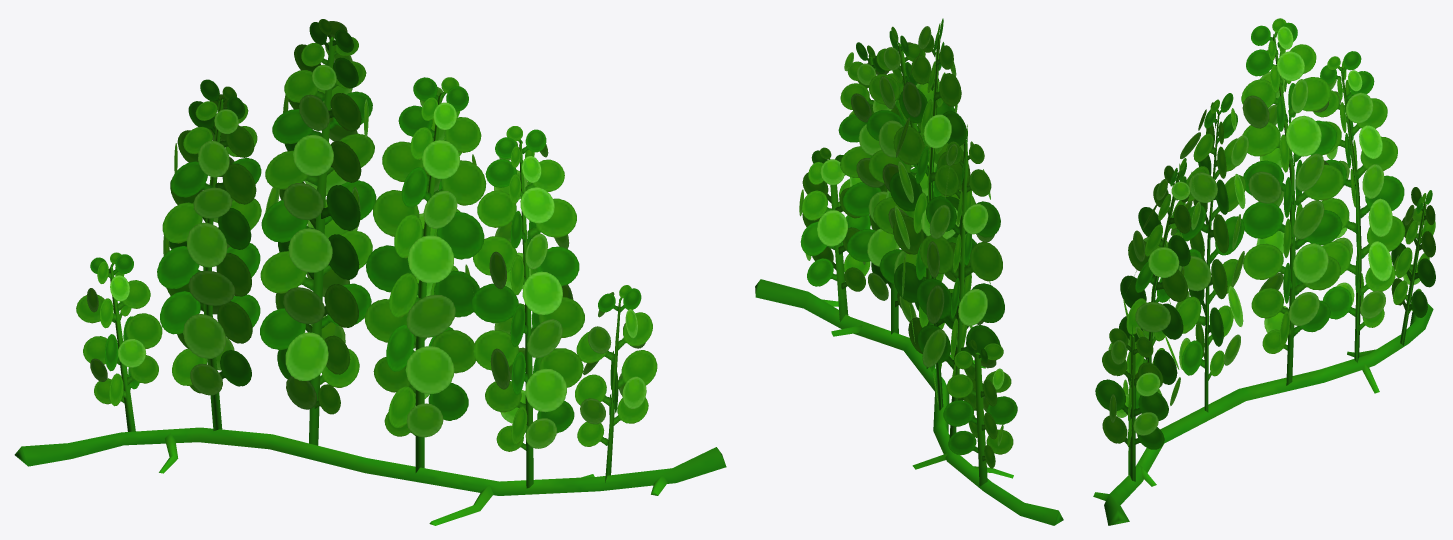
Rendered from sea-grapes.glb.
3 views of the same model, side by side, from view 1: azimuth 30°, elevation 25°; view 2: azimuth 150°, elevation 25°; view 3: azimuth 270°, elevation 25° (orthographic). The views are drawn at different scales.
Parts seen in each view (by area): view 1: DiveFishUmibudou1__mUmibudou; view 2: DiveFishUmibudou1__mUmibudou; view 3: DiveFishUmibudou1__mUmibudou.
Boxes of the visible parts, x1,y1,x2,y2 form: DiveFishUmibudou1__mUmibudou: (14, 19, 726, 525); DiveFishUmibudou1__mUmibudou: (755, 18, 1063, 525); DiveFishUmibudou1__mUmibudou: (1093, 18, 1435, 525).
Bounding box in the file's own units: 1 × 0.8332 × 0.6695.
1 material, 1 textured.
